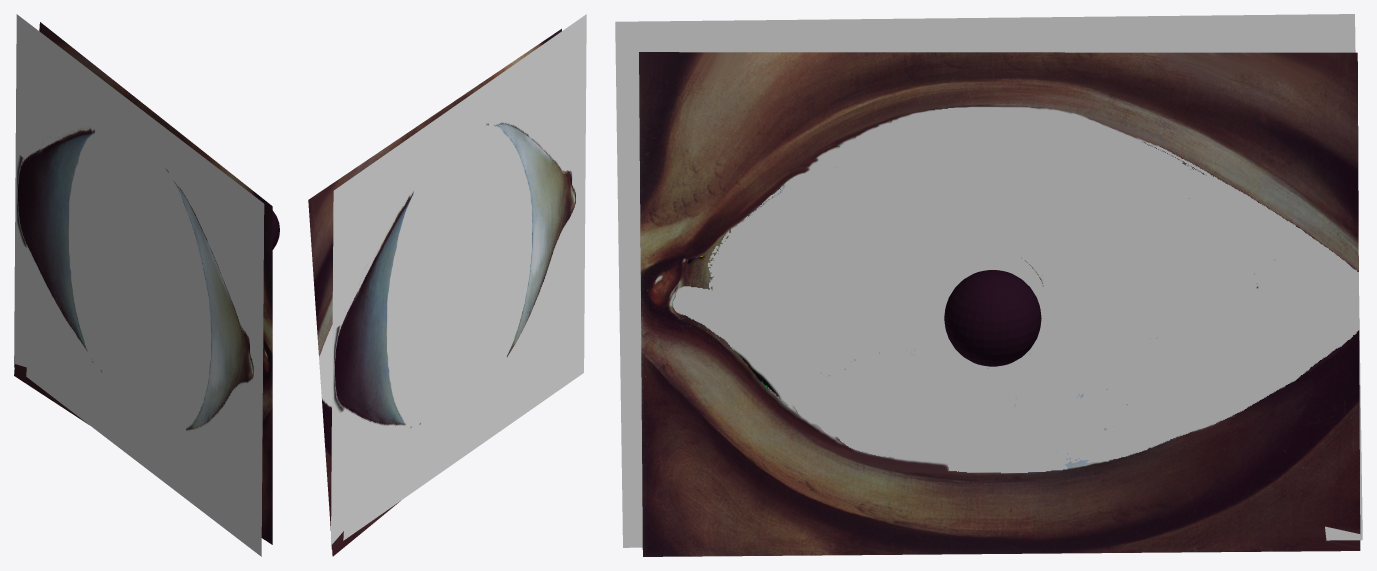
Rendered from magritte.dae.
The picture shows the model from 3 angles, left to right: view 1: azimuth 30°, elevation 25°; view 2: azimuth 150°, elevation 25°; view 3: azimuth 270°, elevation 25°; orthographic projection. The views are drawn at different scales.
Parts seen in each view (by area): view 1: Plane_001, Plane; view 2: Plane_001, Plane; view 3: Plane, Plane_001, Sphere.
Boxes of the visible parts, box(x1,y1,x2,y2) form: Plane_001: box(14, 14, 264, 556); Plane: box(14, 22, 272, 544); Plane_001: box(331, 14, 586, 549); Plane: box(308, 29, 561, 556); Plane: box(639, 52, 1360, 556); Plane_001: box(615, 14, 1362, 547); Sphere: box(944, 270, 1041, 366).
Size of the model in its own units: 3.53 by 11.08 by 8.79.
3 materials, 3 textured.
